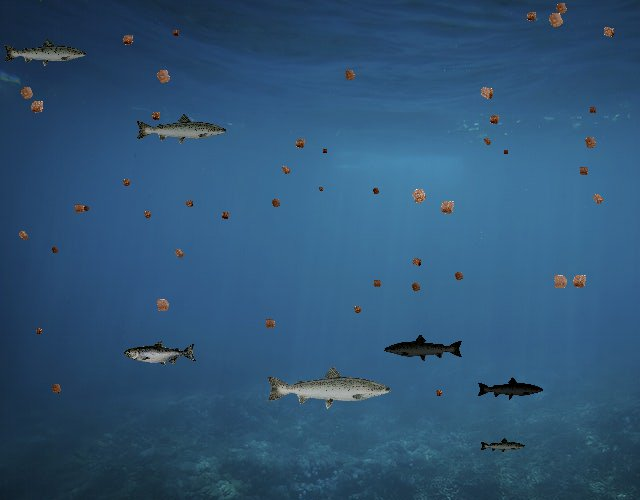Fish: (264, 364, 393, 410), (134, 113, 228, 146), (2, 37, 88, 68), (384, 334, 465, 363), (124, 341, 197, 367), (477, 376, 545, 401), (480, 437, 527, 454)
Pellet: (433, 193, 462, 222), (565, 267, 593, 295), (473, 80, 500, 107), (578, 131, 602, 155), (290, 133, 311, 154), (449, 267, 468, 286), (349, 302, 366, 319), (32, 324, 46, 338)
